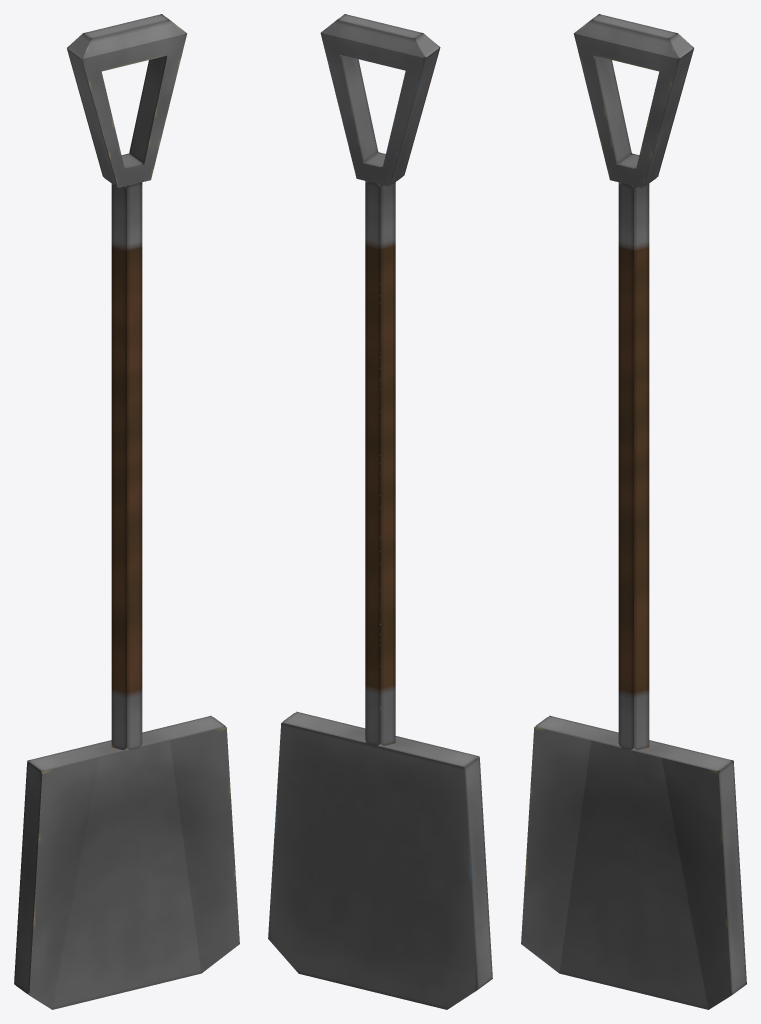
Rendered from GraveShovel by Cherry.fbx.
The picture shows the model from 3 angles, left to right: view 1: azimuth 30°, elevation 25°; view 2: azimuth 150°, elevation 25°; view 3: azimuth 330°, elevation 25°; orthographic projection.
Parts seen in each view (by area): view 1: mesh, cylinder, mesh_1; view 2: mesh, cylinder, mesh_1; view 3: mesh, cylinder, mesh_1.
Boxes of the visible parts, x1,y1,x2,y2 form: mesh: (14,715,239,1009); cylinder: (111,182,142,749); mesh_1: (67,14,187,187); mesh: (268,711,492,1009); cylinder: (365,181,395,745); mesh_1: (320,14,440,186); mesh: (521,715,746,1009); cylinder: (618,182,649,749); mesh_1: (573,14,693,187).
Bounding box in the file's own units: 100 × 438 × 12.5.
1 material, 1 textured.
